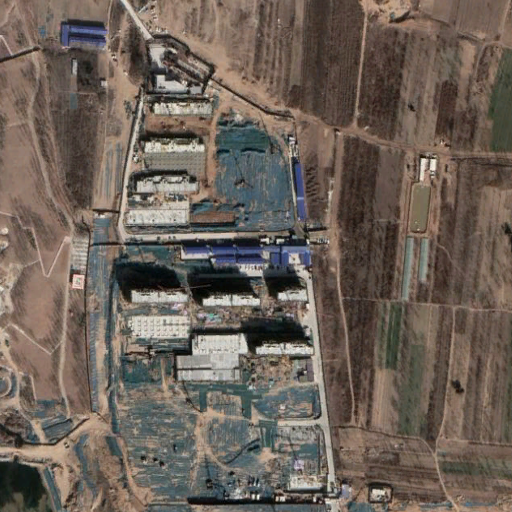cw: (87, 245, 326, 512), (194, 110, 295, 233)
